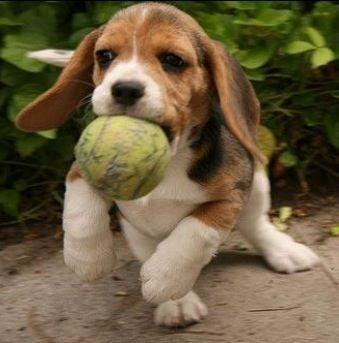puppy-dog: (15, 2, 321, 327)
